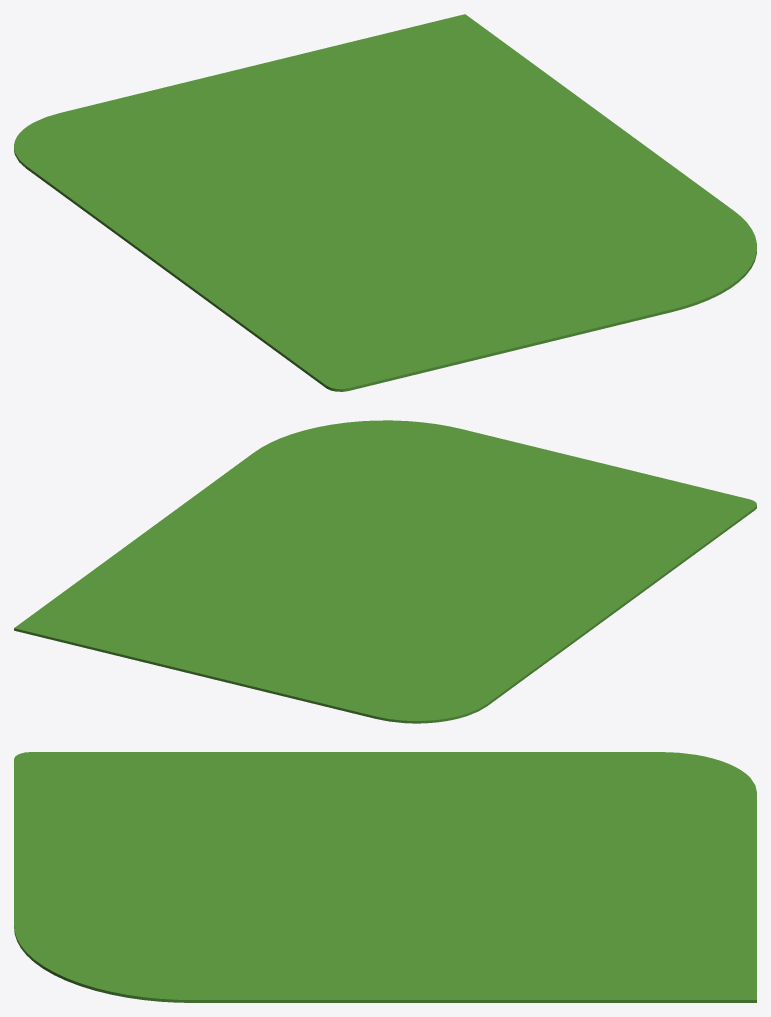
File: cesped_big.dae
The picture shows the model from 3 angles, top to bottom: view 1: azimuth 30°, elevation 25°; view 2: azimuth 150°, elevation 25°; view 3: azimuth 270°, elevation 25°; orthographic projection. The views are drawn at different scales.
Visible parts, largest first — view 1: Extrusion; view 2: Extrusion; view 3: Extrusion.
Boxes of the visible parts, box(x1,y1,x2,y2) form: Extrusion: box(14, 14, 756, 391); Extrusion: box(14, 420, 756, 723); Extrusion: box(14, 752, 756, 1002).
Bounding box in the file's own units: 0.9223 × 1.17 × 0.005.
1 material, 1 textured.
